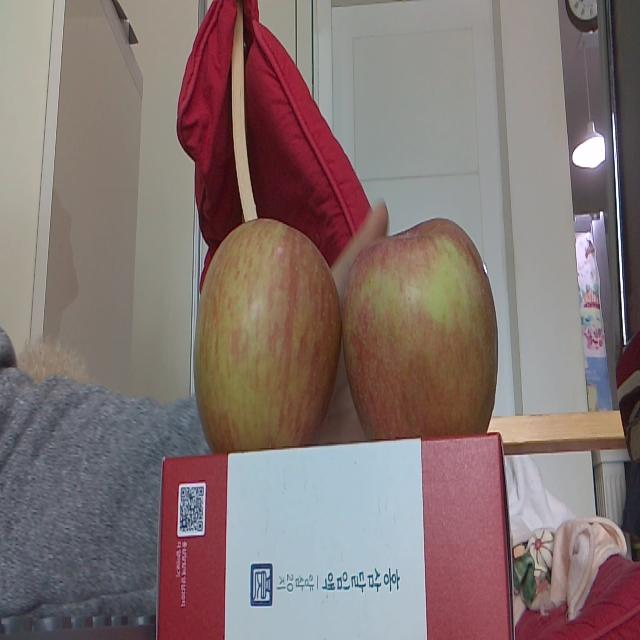apple: (192, 215, 340, 448), (343, 218, 499, 432)
